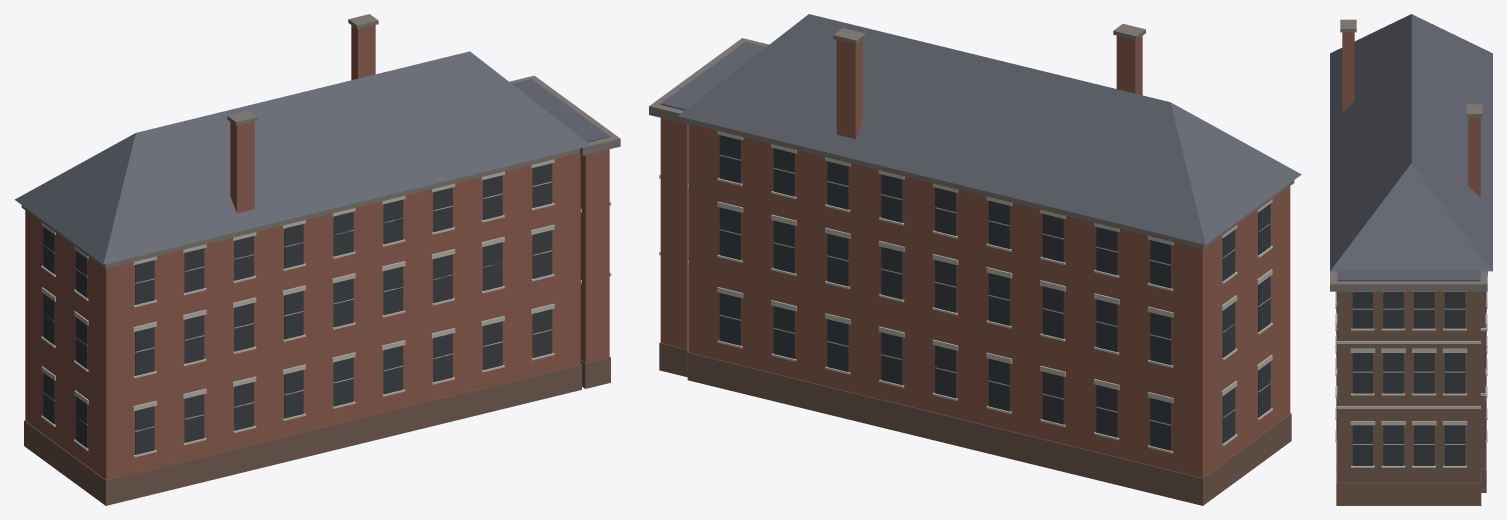
Rendered from coleman_ames_house_1811_prairie__draft_1904.glb.
3 renders of one model, left to right at view 1: azimuth 30°, elevation 25°; view 2: azimuth 150°, elevation 25°; view 3: azimuth 270°, elevation 25°, orthographic. The views are drawn at different scales.
Parts seen in each view (by area): view 1: coleman_ames_house_1811_prairie__draft_1904; view 2: coleman_ames_house_1811_prairie__draft_1904; view 3: coleman_ames_house_1811_prairie__draft_1904.
Part boxes in pixels (box(x1,y1,x2,y2)): coleman_ames_house_1811_prairie__draft_1904: box(15, 14, 620, 505); coleman_ames_house_1811_prairie__draft_1904: box(649, 14, 1301, 505); coleman_ames_house_1811_prairie__draft_1904: box(1330, 14, 1492, 505).
Size of the model in its own units: 26.7 by 17.25 by 7.95.
